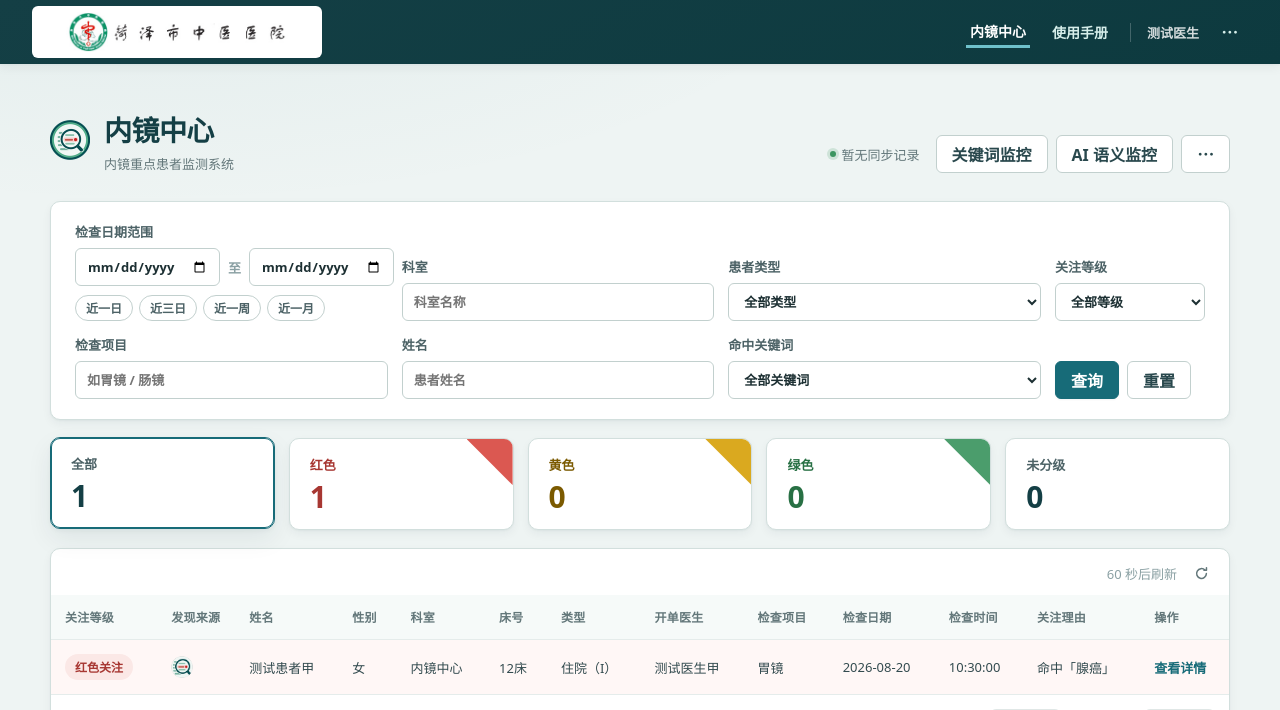
App › shows and opens user management for a USER_ADMIN account
Expected: the text "测试患者甲" is shown, [235,640,338,694]
Step 1. Click the button named "更多配置" → (1206, 154), box [1181,135,1230,173]
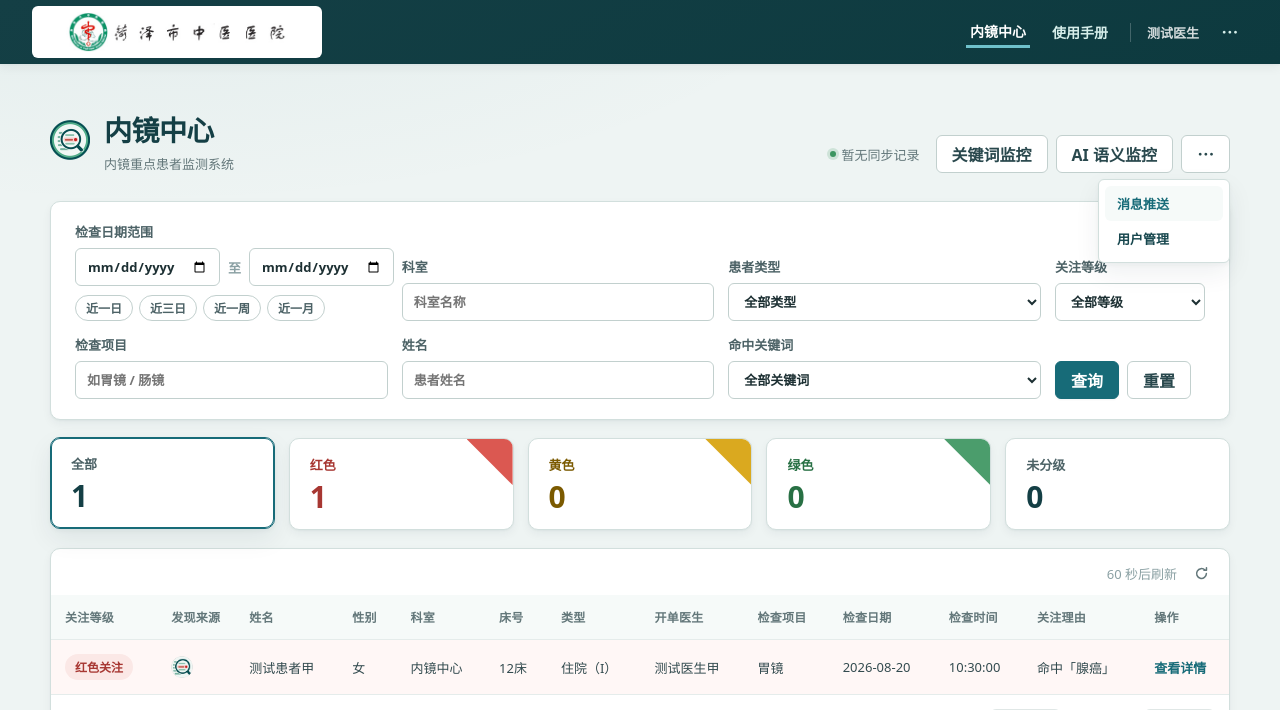
Step 2. Click the menu item "用户管理" → (1164, 238), box [1105,221,1223,256]
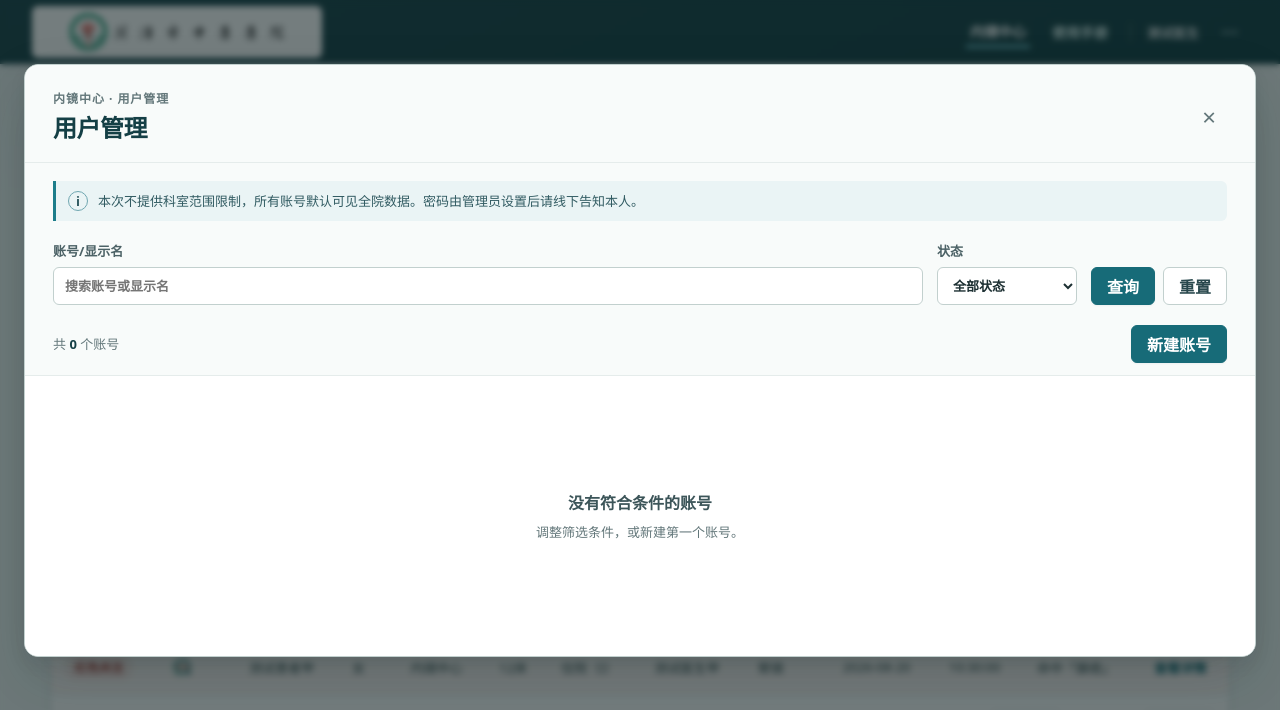
Expected: the dialog "用户管理" is shown
Expected: the text "没有符合条件的账号" is shown, [568,490,712,514]
